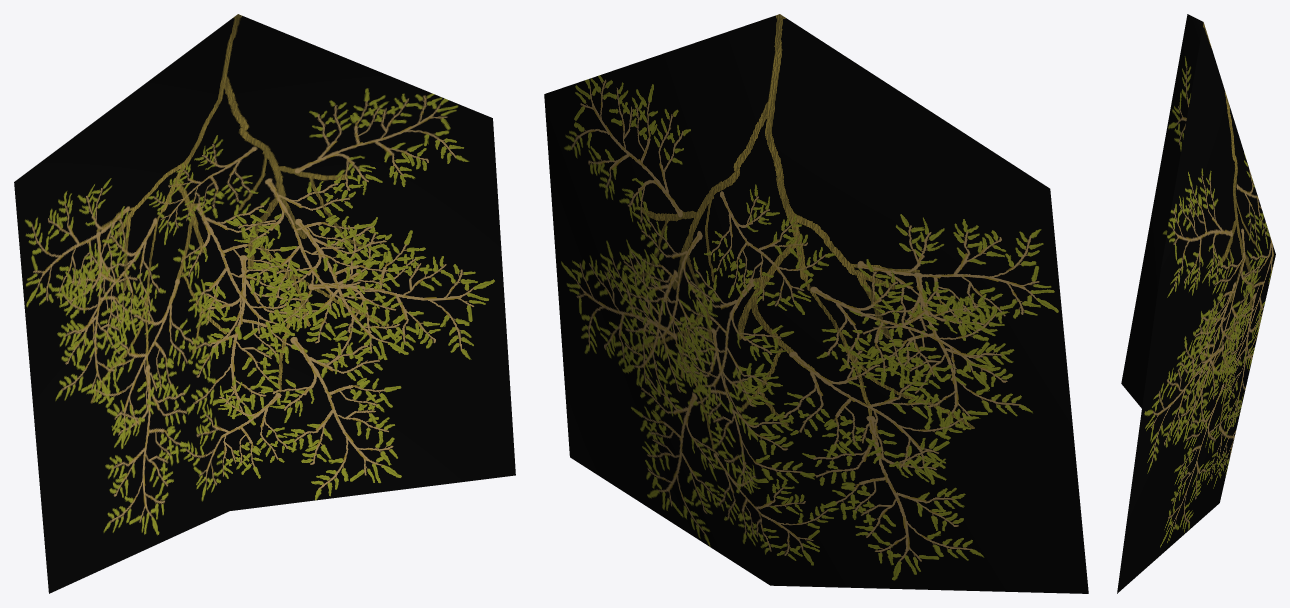
The model's file is LeafMesh11.fbx.
3 views of the same model, side by side, from view 1: azimuth 30°, elevation 25°; view 2: azimuth 150°, elevation 25°; view 3: azimuth 270°, elevation 25° (orthographic). The views are drawn at different scales.
Visible parts, largest first — view 1: LeafMesh1; view 2: LeafMesh1; view 3: LeafMesh1.
Part boxes in pixels (bbox=[...]): LeafMesh1: bbox=[14, 14, 515, 593]; LeafMesh1: bbox=[544, 14, 1088, 593]; LeafMesh1: bbox=[1117, 14, 1275, 593].
Size of the model in its own units: 2 by 2.07 by 0.6195.
